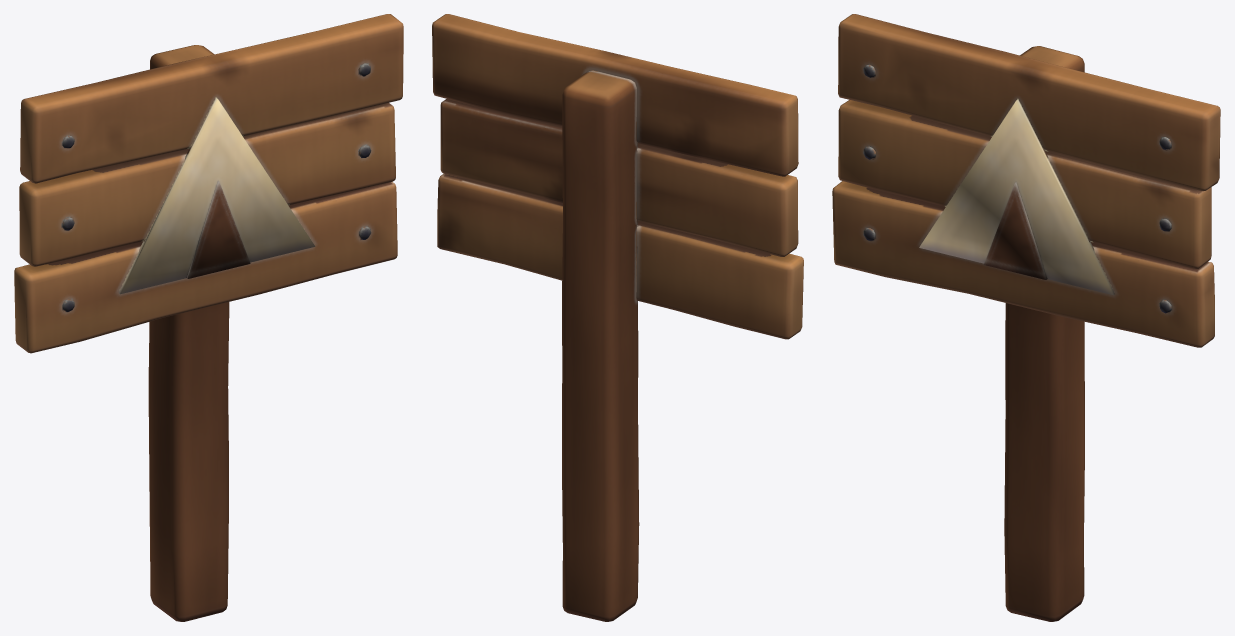
The model's file is camp_sign.glb.
3 renders of one model, left to right at view 1: azimuth 30°, elevation 25°; view 2: azimuth 150°, elevation 25°; view 3: azimuth 330°, elevation 25°, orthographic. The views are drawn at different scales.
Visible parts, largest first — view 1: camp_sign; view 2: camp_sign; view 3: camp_sign.
Boxes of the visible parts, bbox=[...] form: camp_sign: bbox=[14, 14, 403, 621]; camp_sign: bbox=[432, 14, 803, 621]; camp_sign: bbox=[832, 14, 1220, 621].
Size of the model in its own units: 0.9693 by 1.38 by 0.2066.
1 material, 1 textured.
